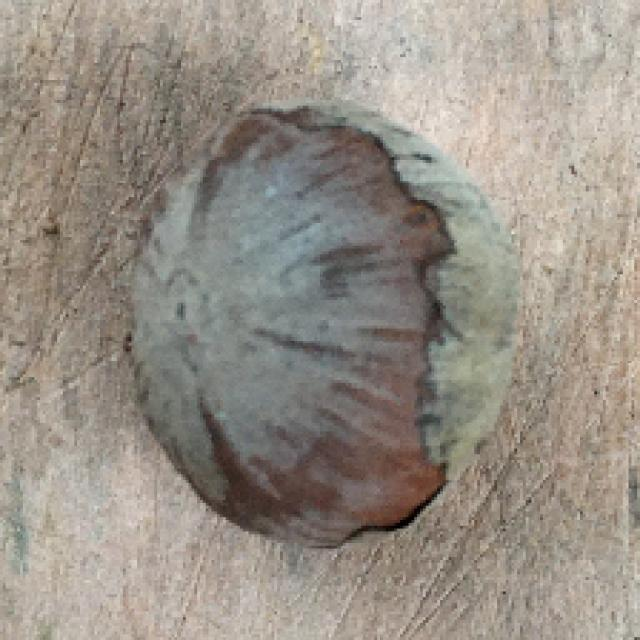damagedHazelnut: (119, 82, 507, 550)
